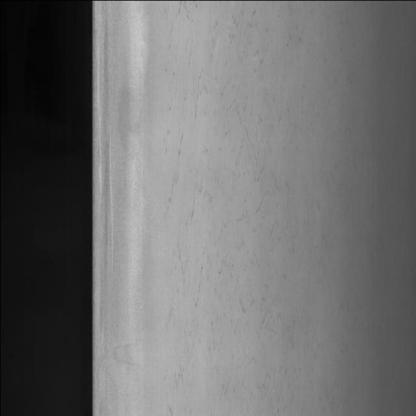silk_spot: (160, 0, 272, 382)
